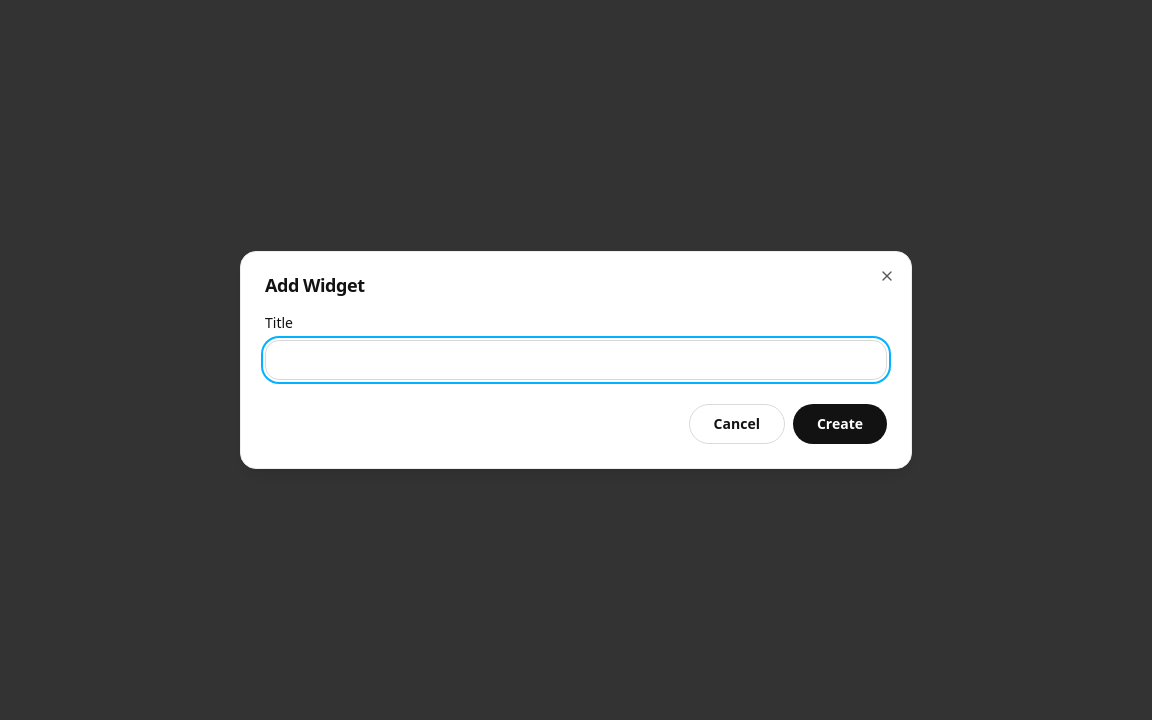
Scenario: EntityFormDialog › shows validation error when required field is empty
Click the button "Create" at (840, 424), box [793, 404, 887, 444]
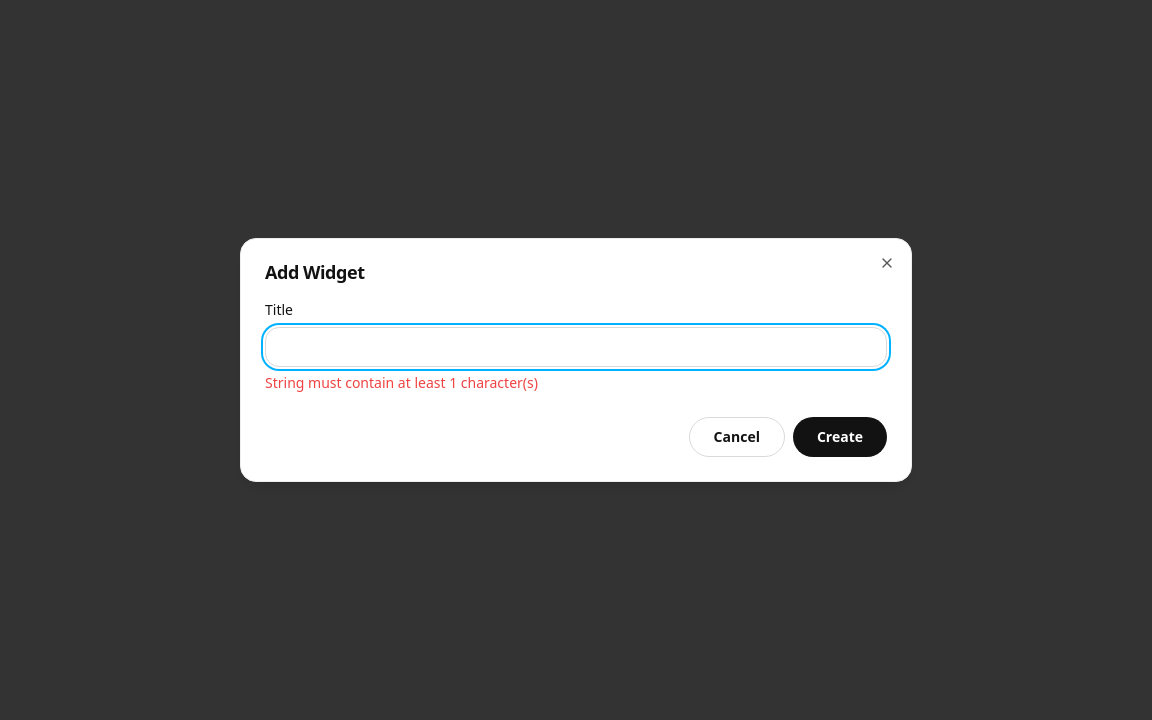
Check: the text "String must contain at least 1 character(s)" is shown, box [265, 373, 538, 392]
